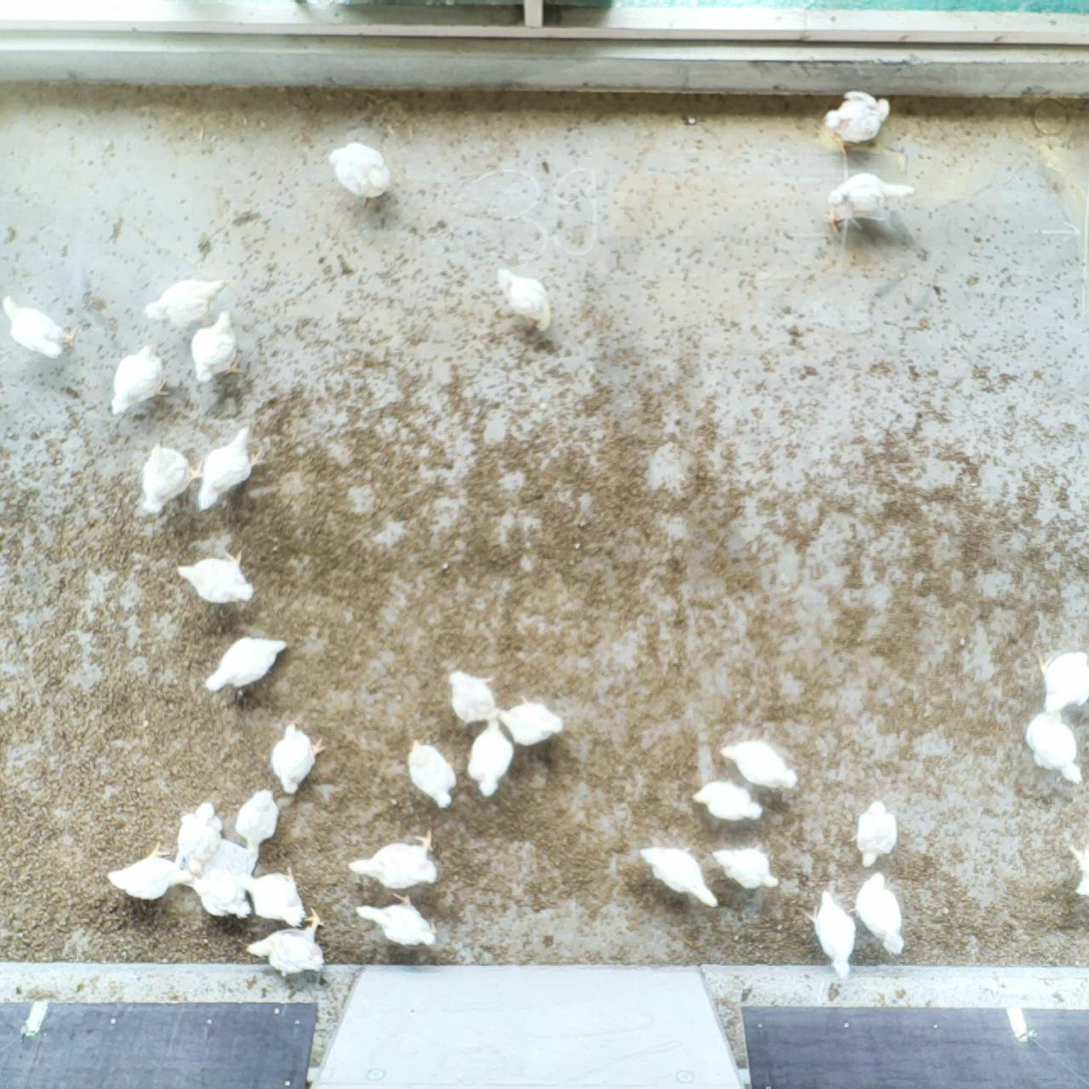chicken: (823, 171, 919, 237), (197, 424, 268, 513), (244, 905, 327, 978), (346, 828, 441, 891), (637, 843, 722, 911), (0, 291, 81, 362), (105, 839, 192, 902), (203, 634, 290, 695), (803, 887, 858, 981), (822, 86, 893, 158), (352, 890, 440, 948), (139, 439, 204, 516), (325, 140, 395, 210), (109, 341, 171, 420), (1024, 708, 1086, 787), (143, 277, 232, 331), (235, 865, 312, 927), (175, 549, 256, 607), (269, 719, 328, 796), (854, 872, 907, 957), (719, 737, 800, 792), (190, 307, 247, 384), (466, 717, 517, 799), (177, 799, 227, 879), (495, 266, 554, 333), (845, 798, 900, 868), (405, 737, 458, 809), (497, 694, 566, 748), (234, 786, 280, 862), (1036, 649, 1089, 714), (691, 777, 767, 822), (189, 866, 252, 920), (709, 845, 783, 890), (447, 667, 503, 724)
